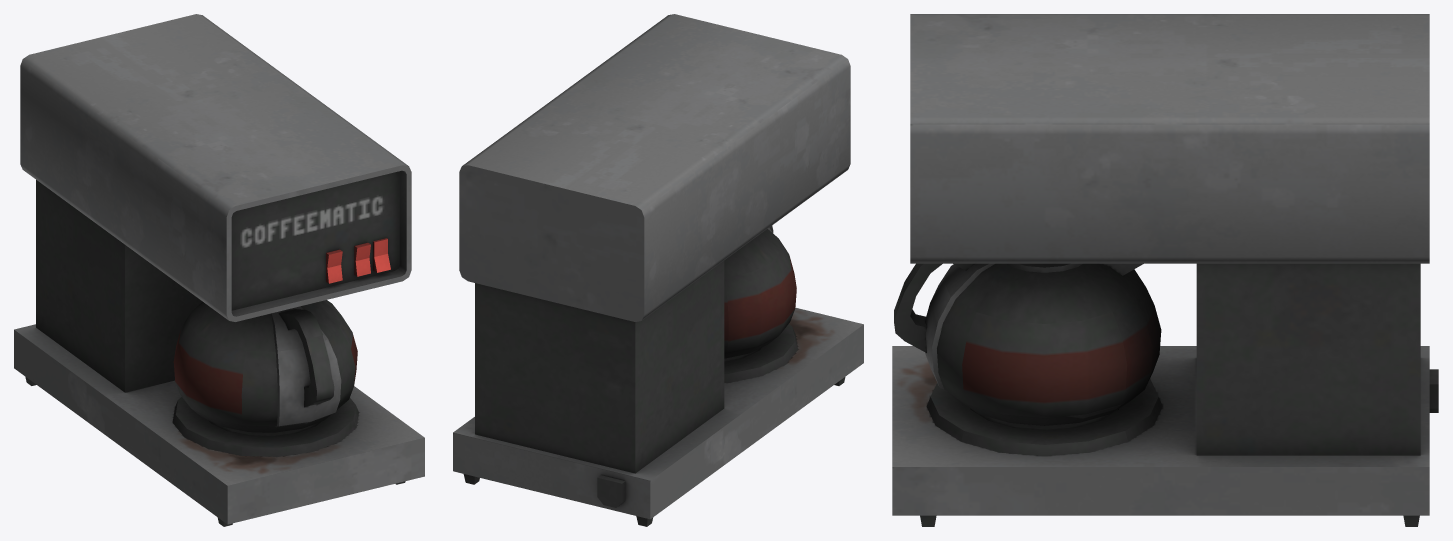
The model's file is machine1.glb.
3 views of the same model, side by side, from view 1: azimuth 30°, elevation 25°; view 2: azimuth 150°, elevation 25°; view 3: azimuth 270°, elevation 25° (orthographic). The views are drawn at different scales.
Parts seen in each view (by area): view 1: coffeemaker; view 2: coffeemaker; view 3: coffeemaker.
Boxes of the visible parts, left/top/right/bottom form: coffeemaker: left=14, top=14, right=424, bottom=526; coffeemaker: left=453, top=14, right=863, bottom=526; coffeemaker: left=892, top=14, right=1438, bottom=526.
Bounding box in the file's own units: 20.8 × 32.5 × 39.65.
Materials: 1 (1 with a texture image).
